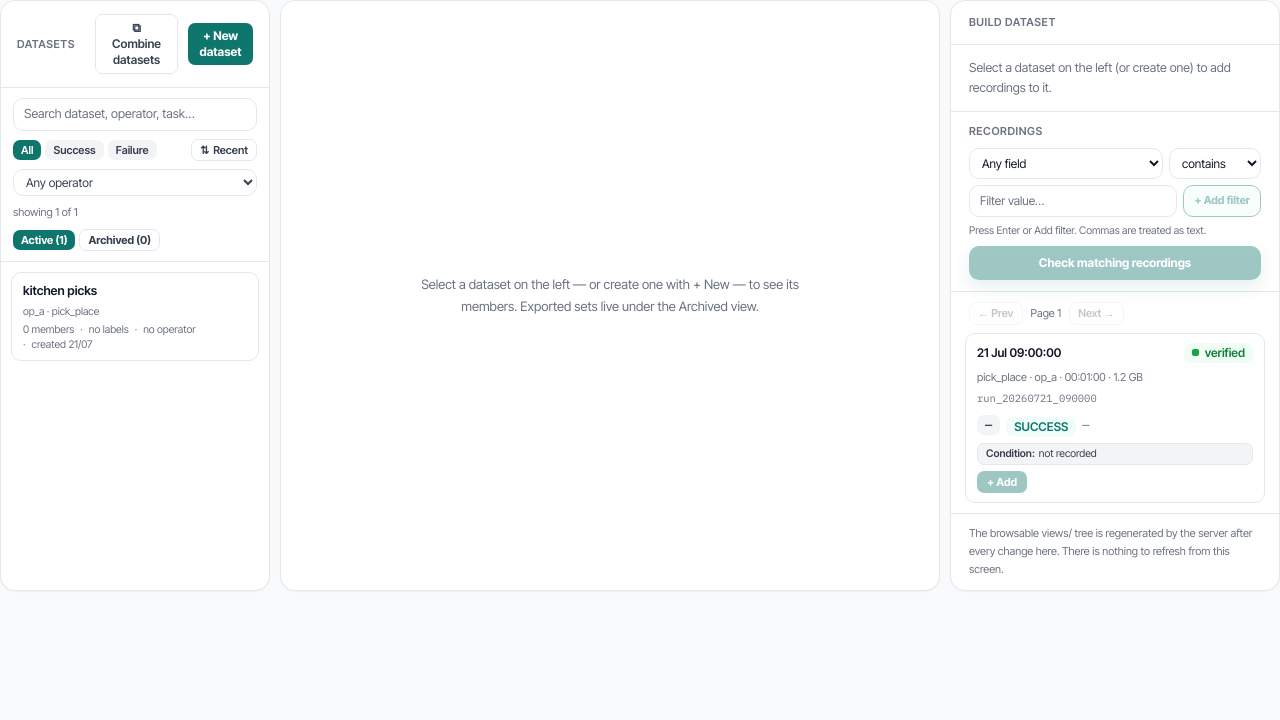
Test: E-19b: a warning-severity refusal still uses the toast
This screenshot has width=1280, height=720.
Click the button that starts with "kitchen picks" at [135, 317], box x1=11 y1=272 x2=259 y2=361
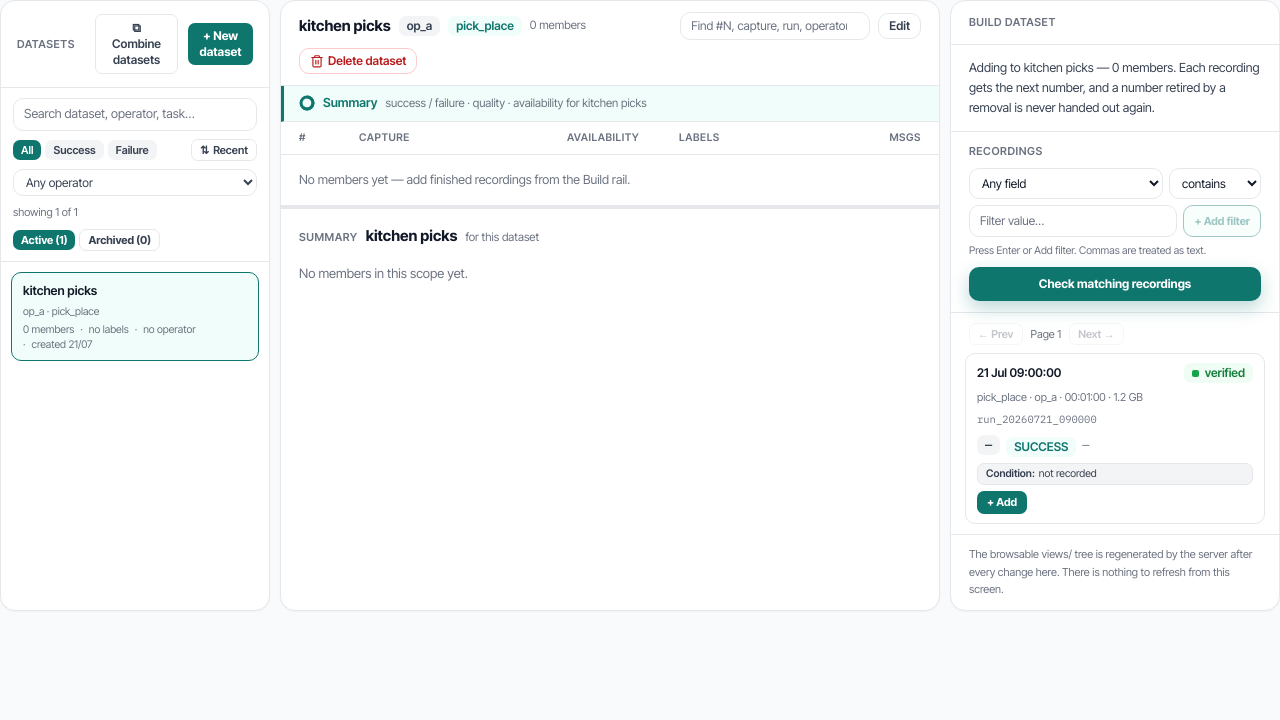
Click the button with test id "dataset-add-cap-a" at [1002, 502], box x1=977 y1=491 x2=1027 y2=514
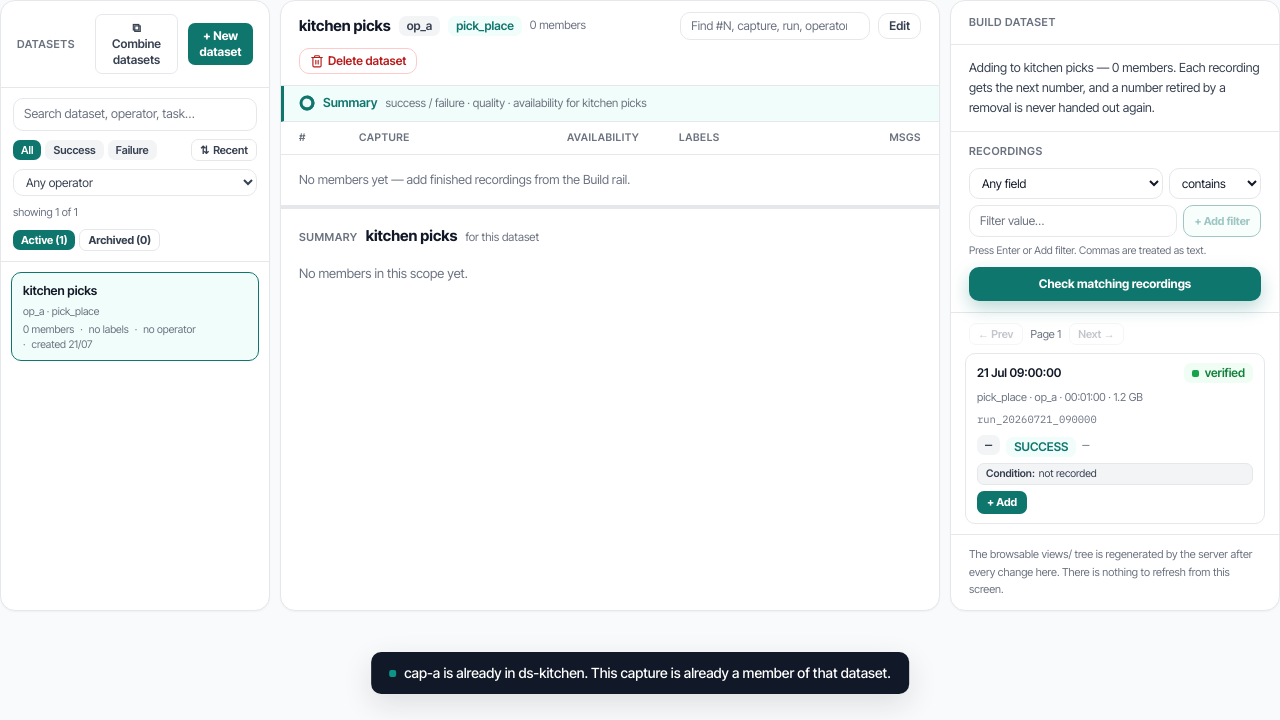
Expected: the element with test id "toast" shows "already in ds-kitchen", x1=404 y1=664 x2=891 y2=681
